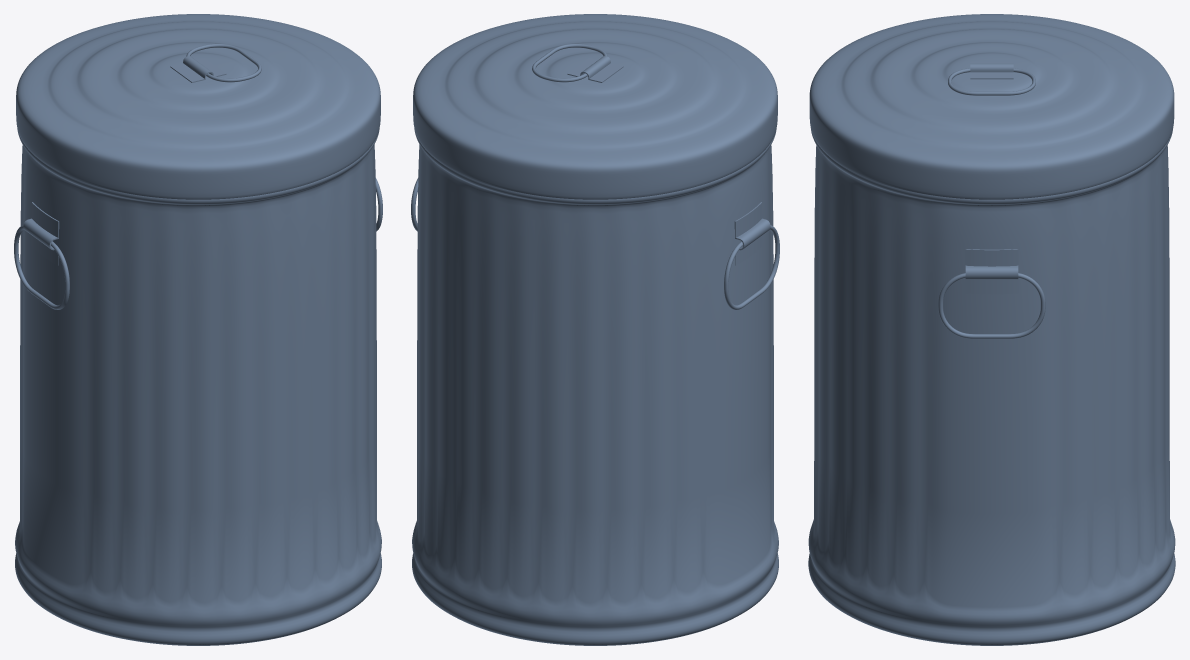
Rendered from Trash Can.fbx.
3 views of the same model, side by side, from view 1: azimuth 30°, elevation 25°; view 2: azimuth 150°, elevation 25°; view 3: azimuth 270°, elevation 25° (orthographic).
Visible parts, largest first — view 1: Cylinder.005, Cylinder.004, Cylinder.003, NurbsCircle.002; view 2: Cylinder.005, Cylinder.004, Cylinder.003, NurbsCircle.002; view 3: Cylinder.005, Cylinder.004, Cylinder.003, NurbsCircle.002.
Part boxes in pixels (x1=…): Cylinder.005: x1=14, y1=129, x2=382, y2=645; Cylinder.004: x1=16, y1=14, x2=380, y2=199; Cylinder.003: x1=170, y1=56, x2=226, y2=82; NurbsCircle.002: x1=186, y1=43, x2=261, y2=82; Cylinder.005: x1=411, y1=129, x2=779, y2=645; Cylinder.004: x1=413, y1=14, x2=777, y2=199; Cylinder.003: x1=567, y1=56, x2=623, y2=82; NurbsCircle.002: x1=532, y1=43, x2=607, y2=82; Cylinder.005: x1=808, y1=129, x2=1175, y2=645; Cylinder.004: x1=809, y1=14, x2=1174, y2=199; Cylinder.003: x1=970, y1=61, x2=1013, y2=79; NurbsCircle.002: x1=948, y1=68, x2=1035, y2=95.
Size of the model in its own units: 3.5 by 5.26 by 3.44.
